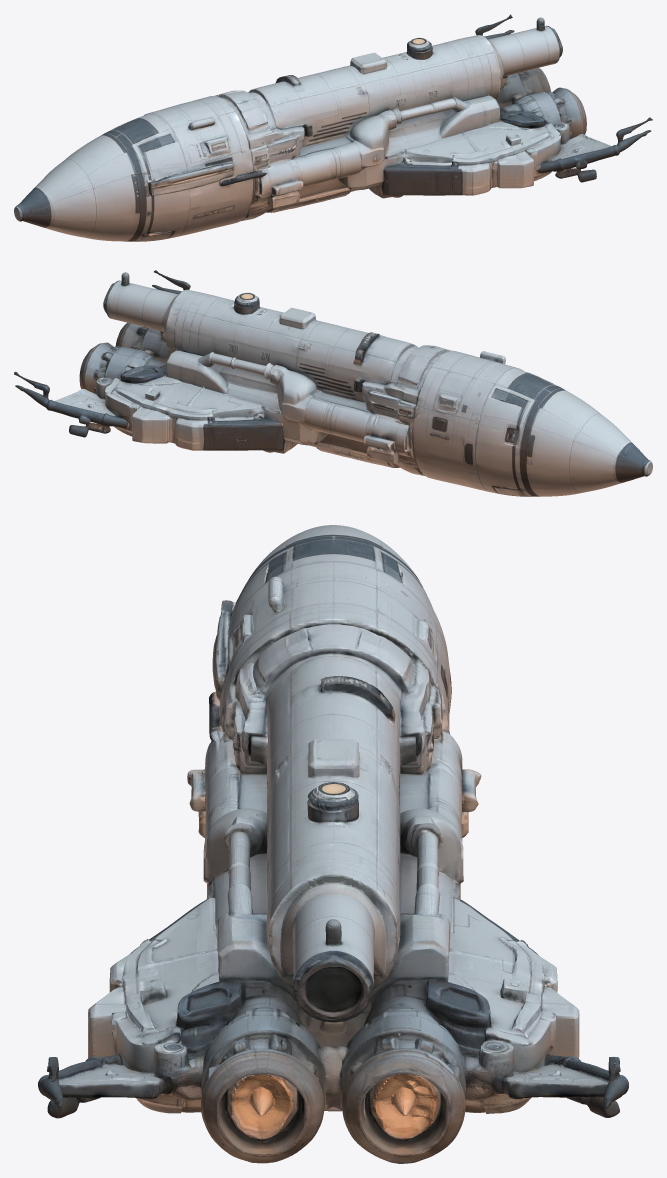
Rendered from rocket.glb.
The picture shows the model from 3 angles, top to bottom: view 1: azimuth 30°, elevation 25°; view 2: azimuth 150°, elevation 25°; view 3: azimuth 270°, elevation 25°; orthographic projection. The views are drawn at different scales.
Parts seen in each view (by area): view 1: tripo_node_ba714f42-a10a-40e9-b9b6-27adc3945824; view 2: tripo_node_ba714f42-a10a-40e9-b9b6-27adc3945824; view 3: tripo_node_ba714f42-a10a-40e9-b9b6-27adc3945824.
Part boxes in pixels (x1,y1,x2,y2): tripo_node_ba714f42-a10a-40e9-b9b6-27adc3945824: (14, 14, 652, 241); tripo_node_ba714f42-a10a-40e9-b9b6-27adc3945824: (14, 270, 652, 496); tripo_node_ba714f42-a10a-40e9-b9b6-27adc3945824: (38, 525, 628, 1163).
Size of the model in its own units: 0.9965 by 0.2207 by 0.4507.
Materials: 1 (1 with a texture image).
